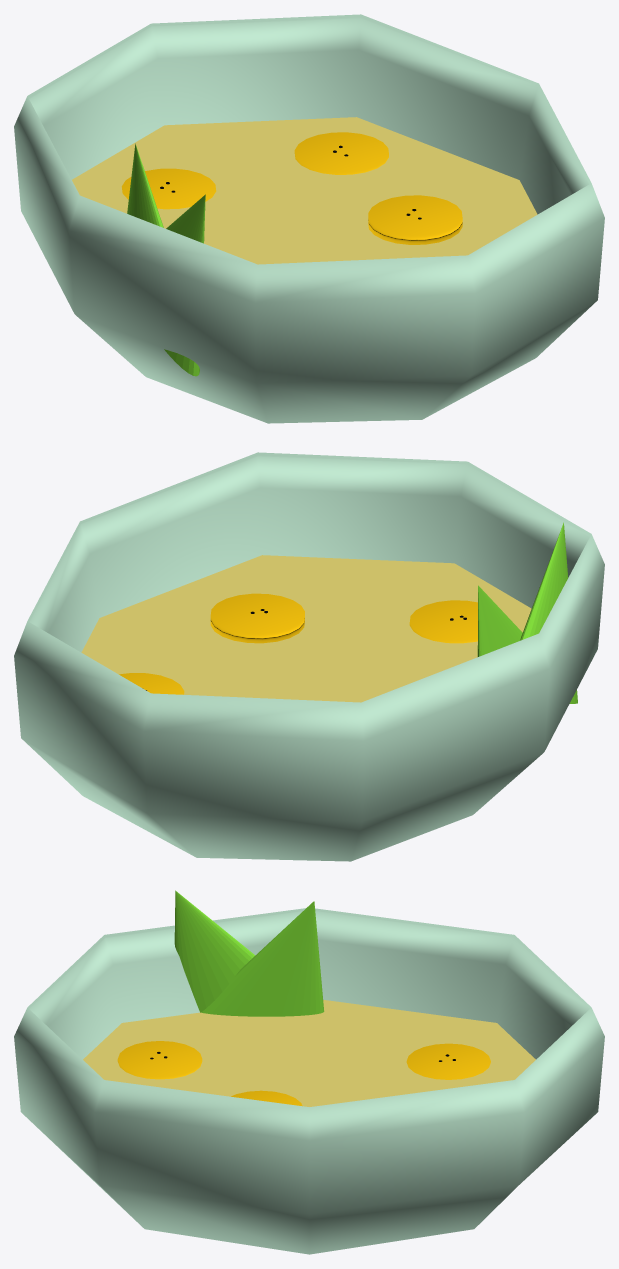
The model's file is KUE CARANG GESING.fbx.
3 views of the same model, one above another, from view 1: azimuth 30°, elevation 25°; view 2: azimuth 150°, elevation 25°; view 3: azimuth 270°, elevation 25° (orthographic). The views are drawn at different scales.
Visible parts, largest first — view 1: Cube, Cylinder, Cylinder.002, Cylinder.013, Cylinder.001, Cone, Cone.001; view 2: Cube, Cylinder, Cylinder.002, Cylinder.009, Cone.001, Cone, Cylinder.013; view 3: Cube, Cylinder, Cone, Cone.001, Cylinder.009, Cylinder.001, Cylinder.002.
Boxes of the visible parts, x1,y1,x2,y2 form: Cube: [14, 14, 604, 423]; Cylinder: [72, 117, 537, 264]; Cylinder.002: [368, 195, 462, 244]; Cylinder.013: [294, 132, 388, 174]; Cylinder.001: [121, 168, 216, 209]; Cone: [127, 143, 163, 227]; Cone.001: [164, 194, 205, 376]; Cube: [14, 452, 604, 861]; Cylinder: [81, 555, 531, 702]; Cylinder.002: [210, 593, 304, 643]; Cylinder.009: [409, 600, 477, 643]; Cone.001: [520, 522, 577, 703]; Cone: [477, 585, 522, 656]; Cylinder.013: [119, 673, 184, 694]; Cube: [14, 908, 604, 1254]; Cylinder: [83, 1000, 535, 1106]; Cone: [201, 901, 324, 1016]; Cone.001: [174, 890, 254, 1012]; Cylinder.009: [117, 1041, 202, 1079]; Cylinder.001: [406, 1043, 490, 1079]; Cylinder.002: [231, 1090, 302, 1106].
Size of the model in its own units: 270 by 146 by 322.
